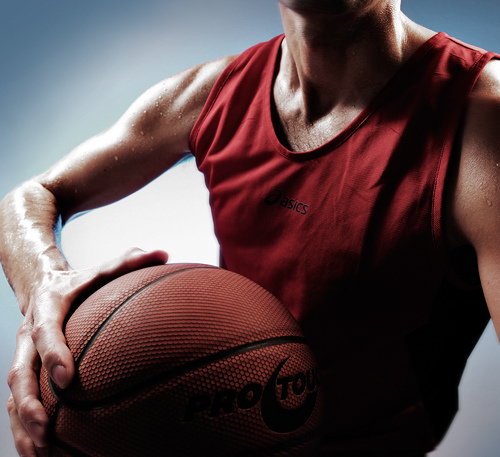basketball: (38, 264, 320, 457)
